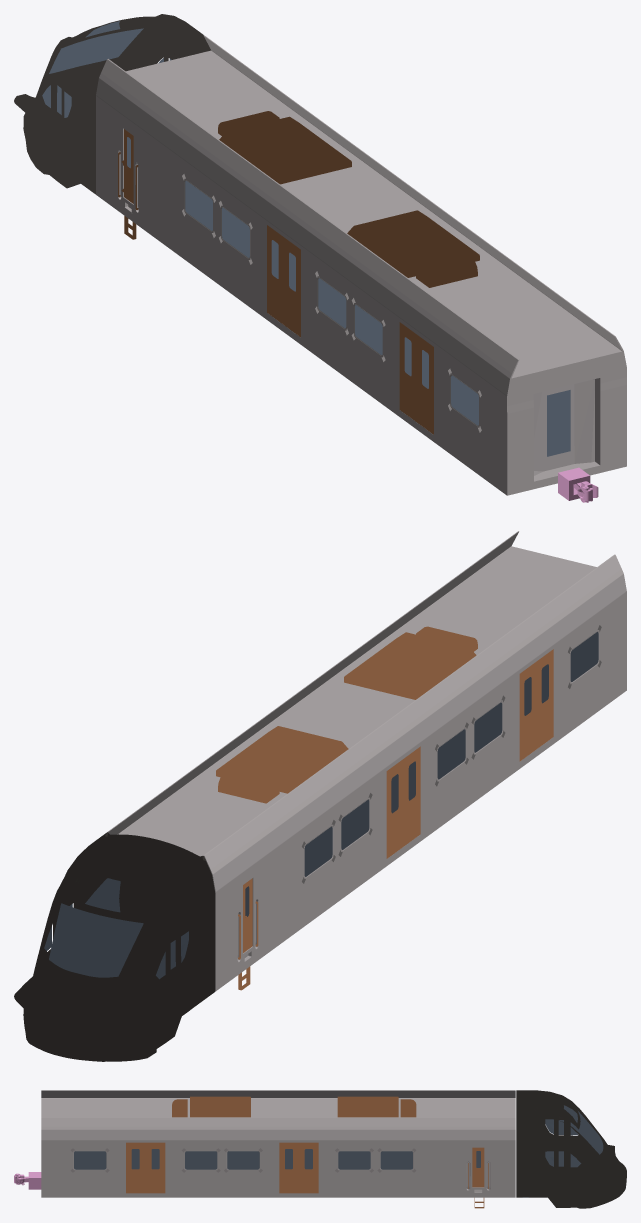
File: Vag1.obj
The picture shows the model from 3 angles, top to bottom: view 1: azimuth 30°, elevation 25°; view 2: azimuth 150°, elevation 25°; view 3: azimuth 270°, elevation 25°; orthographic projection. The views are drawn at different scales.
Parts seen in each view (by area): view 1: Vagon, Puertas, Cabina, Ventanas; view 2: Vagon, Cabina, Puertas, Ventanas; view 3: Vagon, Cabina, Puertas, Ventanas.
Part boxes in pixels (<box>): Vagon: <box>96,35,626,502</box>; Puertas: <box>118,111,479,434</box>; Cabina: <box>14,14,210,194</box>; Ventanas: <box>42,21,570,456</box>; Vagon: <box>107,531,626,991</box>; Cabina: <box>14,832,215,1061</box>; Puertas: <box>216,626,553,990</box>; Ventanas: <box>44,632,598,979</box>; Vagon: <box>14,1090,515,1197</box>; Cabina: <box>516,1090,626,1208</box>; Puertas: <box>126,1096,488,1208</box>; Ventanas: <box>74,1105,603,1197</box>.
Size of the model in its own units: 47.09 by 57.67 by 349.
Materials: 5 (4 with a texture image).
